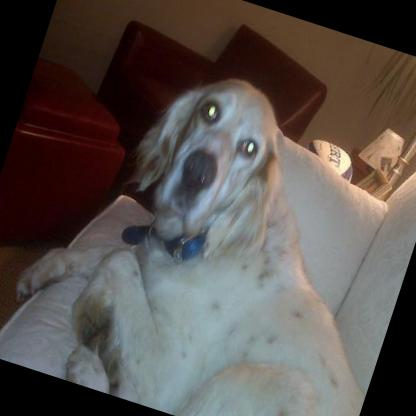English_setter: (0, 30, 416, 416)
